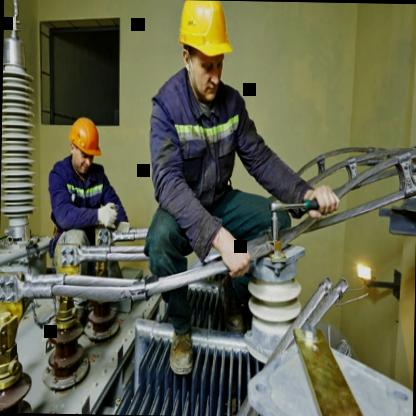helmet: (167, 0, 238, 107), (63, 108, 103, 176)
